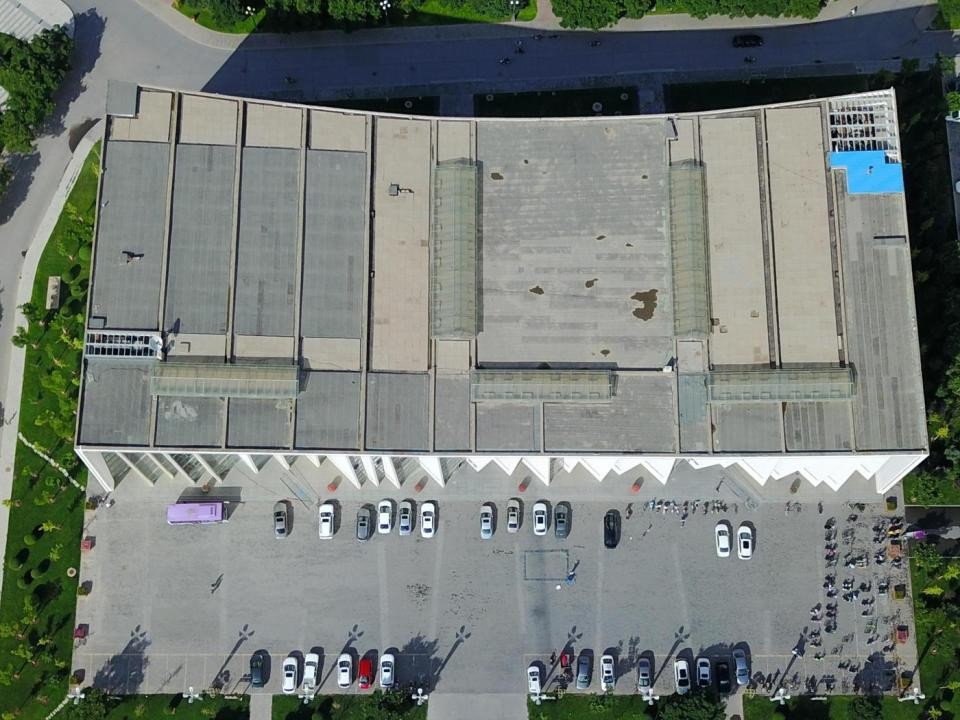bus: (166, 503, 228, 525)
car: (674, 658, 692, 696), (302, 654, 319, 690), (732, 648, 749, 684), (318, 504, 334, 540), (420, 502, 436, 538), (282, 656, 297, 694), (737, 525, 753, 560), (600, 655, 616, 690), (250, 653, 266, 687), (532, 502, 548, 536), (716, 660, 731, 696), (274, 501, 288, 539), (714, 524, 730, 557), (506, 499, 521, 534), (337, 654, 352, 688), (554, 505, 569, 539), (636, 658, 650, 694), (696, 658, 712, 689), (356, 660, 373, 689), (357, 508, 371, 543), (604, 514, 618, 549), (575, 656, 590, 688), (479, 505, 493, 539), (378, 500, 392, 533), (380, 654, 394, 687), (399, 501, 412, 536), (527, 667, 541, 693), (733, 36, 761, 48), (284, 76, 297, 82)
